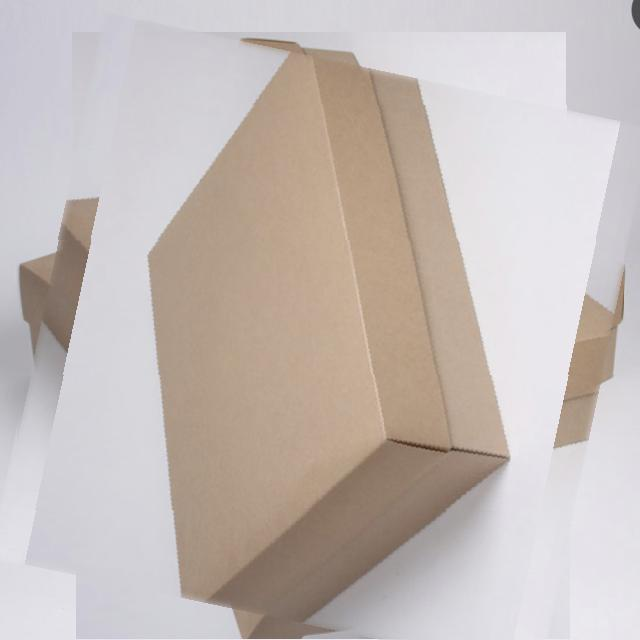biodegradable: (14, 37, 624, 640)
